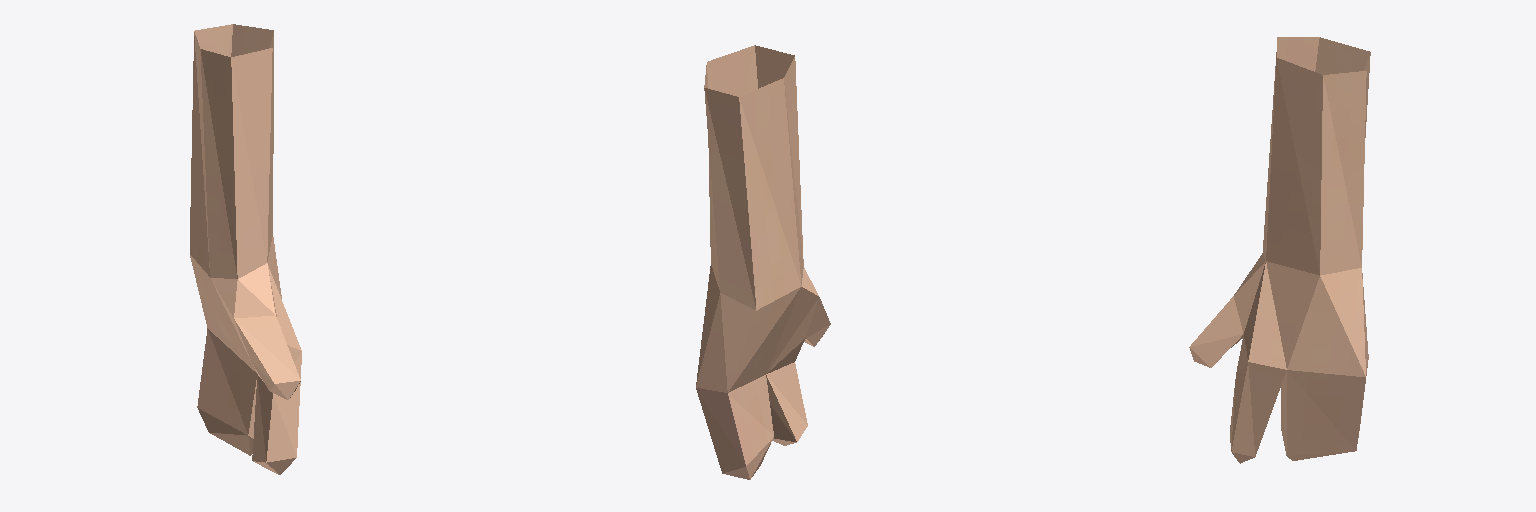
The picture shows the model from 3 angles: view 1: azimuth 30°, elevation 25°; view 2: azimuth 150°, elevation 25°; view 3: azimuth 270°, elevation 25°; orthographic projection.
Parts seen in each view (by area): view 1: antebrazoDipper_izq; view 2: antebrazoDipper_izq; view 3: antebrazoDipper_izq.
Boxes of the visible parts, box(x1,y1,x2,y2) form: antebrazoDipper_izq: box(190, 24, 301, 474); antebrazoDipper_izq: box(696, 45, 830, 479); antebrazoDipper_izq: box(1189, 37, 1370, 463).
Bounding box in the file's own units: 0.0824 × 0.4082 × 0.1631.
1 materials, 1 textured.